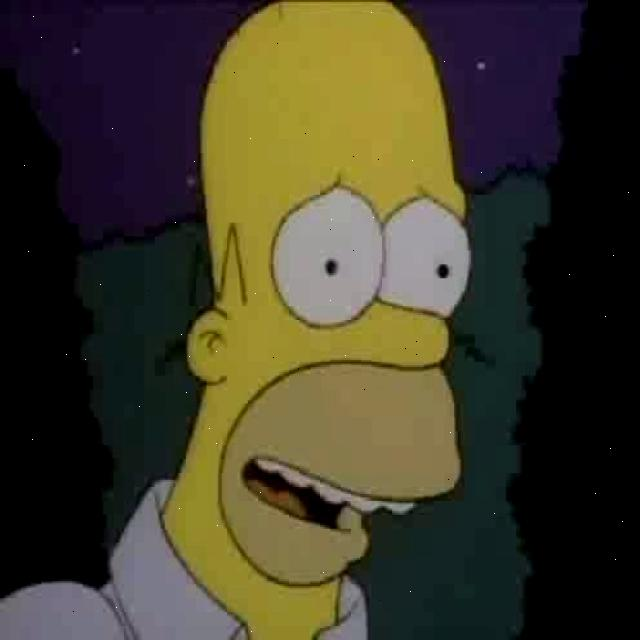Homer Simpson: (178, 0, 480, 630)
